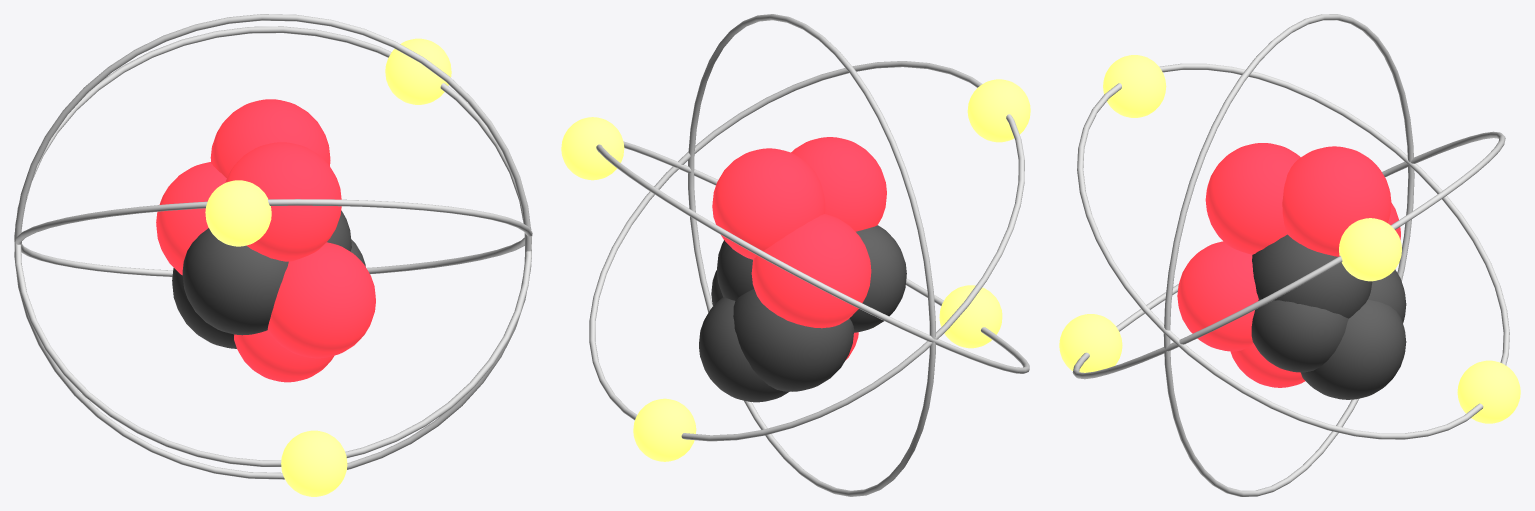
Rendered from atom.fbx.
3 renders of one model, left to right at view 1: azimuth 30°, elevation 25°; view 2: azimuth 150°, elevation 25°; view 3: azimuth 270°, elevation 25°, orthographic. The views are drawn at different scales.
Parts seen in each view (by area): view 1: Sphere.001, BézierCircle.003, BézierCircle, Sphere.002, Sphere.006, BézierCircle.002, Sphere.003, Sphere.004, Sphere.010, Sphere.011, Sphere.012, Sphere (+1 smaller); view 2: Sphere.004, Sphere.003, BézierCircle.002, Sphere.008, BézierCircle.003, Sphere.002, BézierCircle, Sphere.009, Sphere.006, Sphere.013, Sphere.011, Sphere.012 (+2 smaller); view 3: Sphere.003, BézierCircle.002, Sphere.002, BézierCircle.003, Sphere.001, Sphere.009, Sphere.007, Sphere.005, BézierCircle, Sphere.012, Sphere.013, Sphere.011 (+3 smaller).
Boxes of the visible parts, x1,y1,x2,y2 form: Sphere.001: (267, 242, 375, 358); BézierCircle.003: (14, 14, 531, 479); BézierCircle: (14, 26, 531, 466); Sphere.002: (225, 142, 341, 261); Sphere.006: (182, 228, 288, 335); BézierCircle.002: (15, 199, 532, 276); Sphere.003: (210, 99, 330, 177); Sphere.004: (156, 162, 226, 275); Sphere.010: (281, 430, 347, 496); Sphere.011: (205, 180, 271, 246); Sphere.012: (385, 38, 451, 104); Sphere: (234, 330, 333, 382); Sphere.004: (751, 214, 871, 328); Sphere.003: (712, 148, 825, 259); BézierCircle.002: (589, 61, 1024, 441); Sphere.008: (733, 289, 854, 391); BézierCircle.003: (688, 14, 935, 496); Sphere.002: (791, 137, 886, 231); BézierCircle: (596, 141, 1029, 373); Sphere.009: (699, 297, 789, 402); Sphere.006: (849, 225, 906, 332); Sphere.013: (633, 398, 696, 461); Sphere.011: (967, 79, 1030, 142); Sphere.012: (561, 117, 624, 180); Sphere.003: (1282, 146, 1391, 256); BézierCircle.002: (1077, 63, 1509, 439); Sphere.002: (1205, 143, 1300, 254); BézierCircle.003: (1163, 14, 1414, 496); Sphere.001: (1177, 241, 1258, 351); Sphere.009: (1300, 299, 1406, 399); Sphere.007: (1252, 234, 1372, 318); Sphere.005: (1251, 299, 1348, 372); BézierCircle: (1072, 131, 1505, 379); Sphere.012: (1339, 218, 1401, 281); Sphere.013: (1457, 360, 1520, 423); Sphere.011: (1103, 55, 1166, 117).
Bounding box in the file's own units: 173 × 178 × 167.
